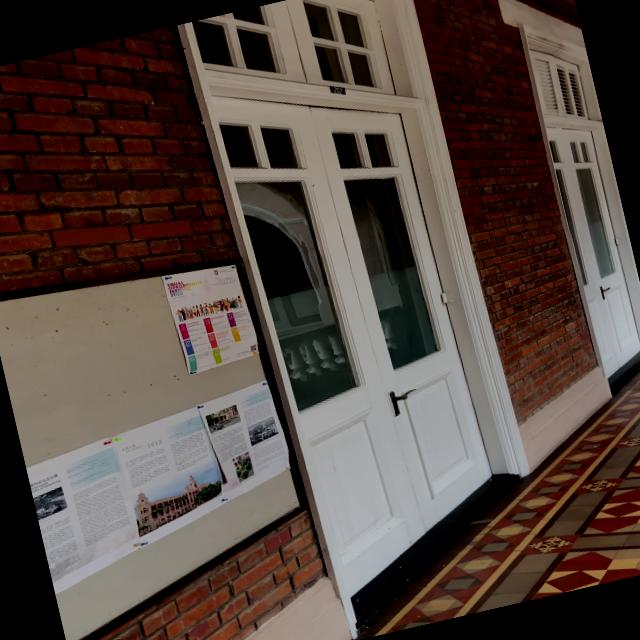room202: (327, 80, 348, 98)
